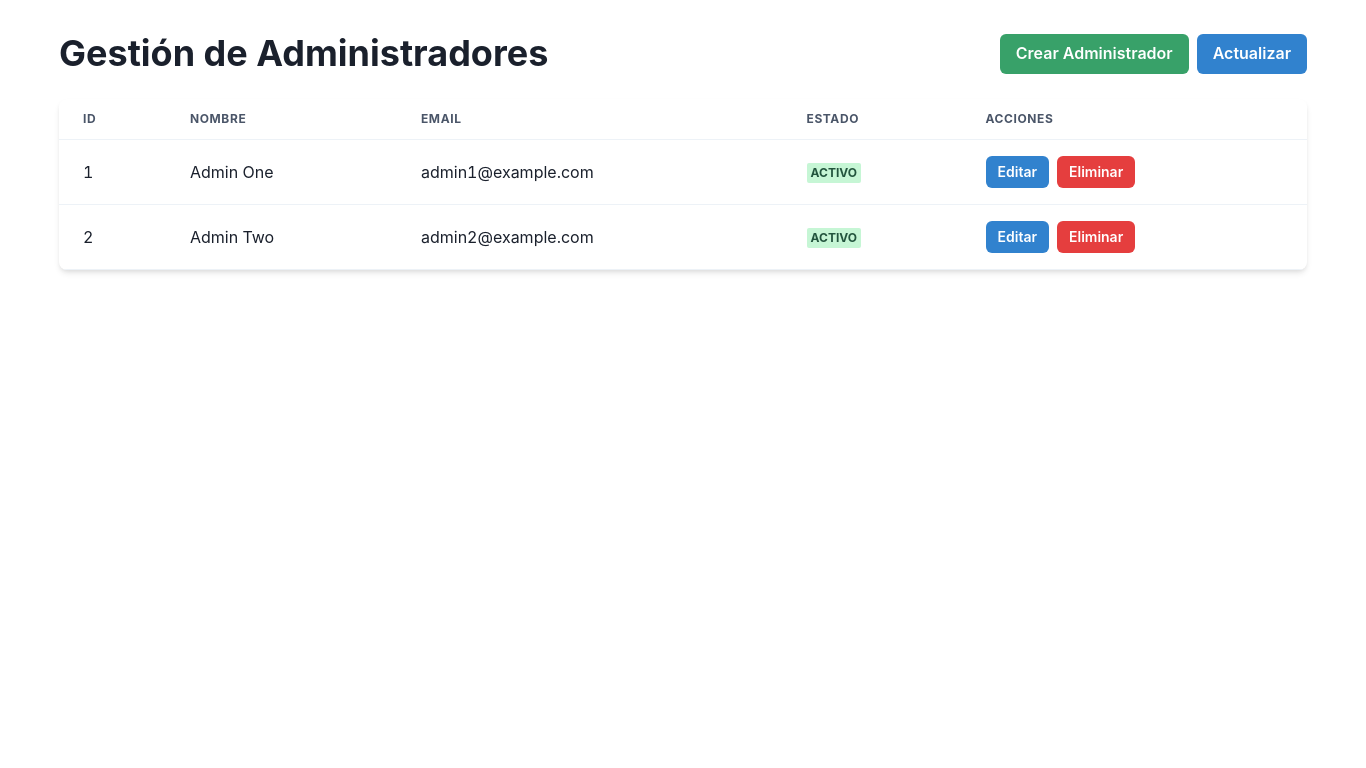
Scenario: AdminManagementPage › should open create modal when clicking create button
The width and height of the screenshot is (1366, 768).
Expected: the text "Admin One" is shown, x1=166 y1=140 x2=397 y2=205
Click the button "Crear Administrador" at [1094, 54], box x1=1000 y1=34 x2=1189 y2=74
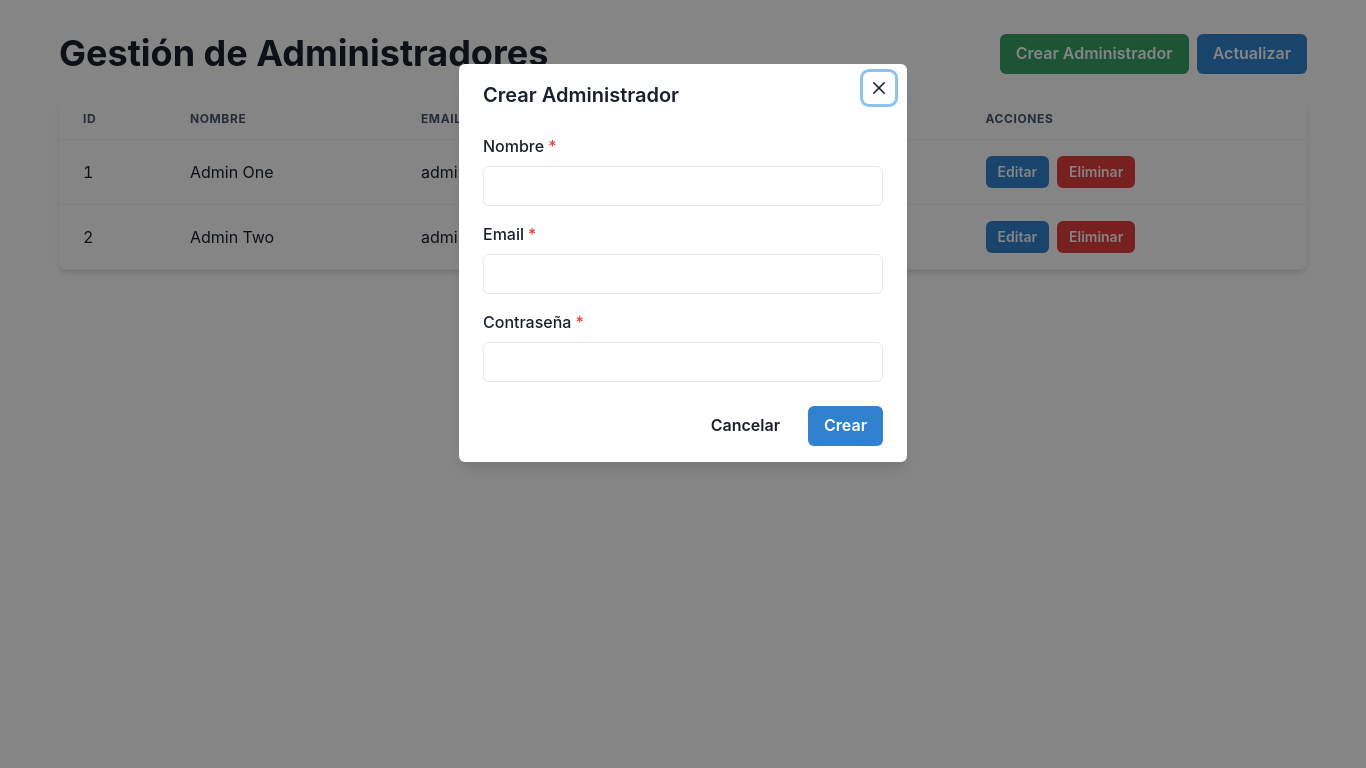
Now the field labelled "Nombre*" is shown, box x1=483 y1=166 x2=883 y2=206
Now the field labelled "Email*" is shown, box x1=483 y1=254 x2=883 y2=294
